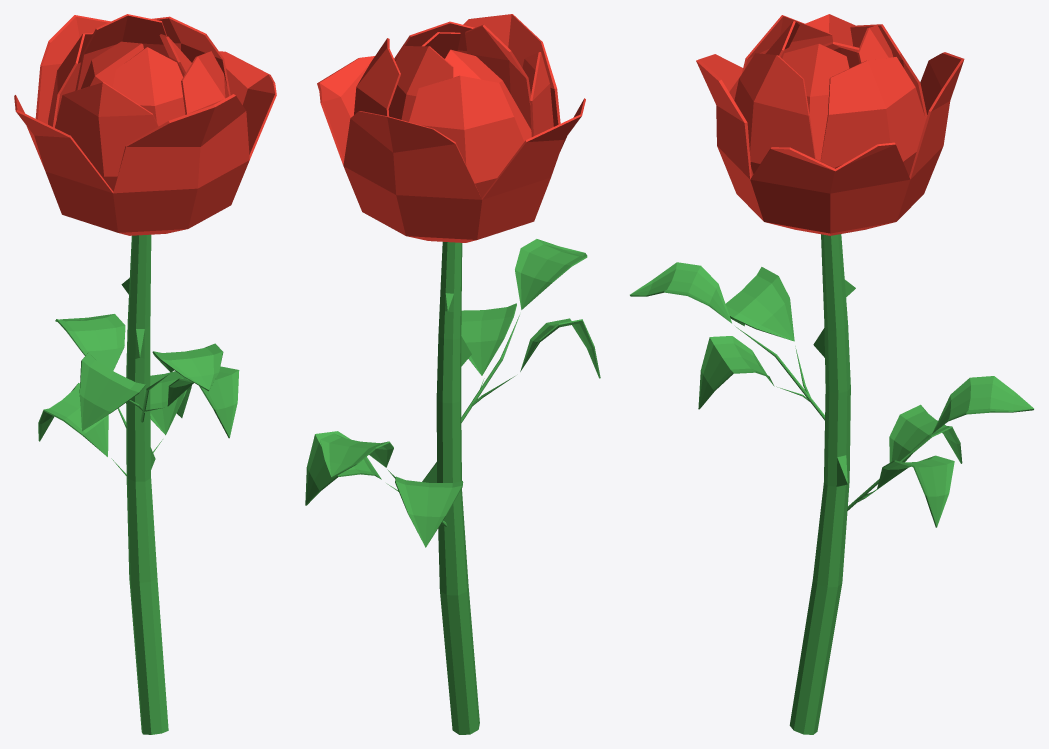
Rendered from Rose.glb.
3 views of the same model, side by side, from view 1: azimuth 30°, elevation 25°; view 2: azimuth 150°, elevation 25°; view 3: azimuth 270°, elevation 25° (orthographic).
Parts seen in each view (by area): view 1: Rose_Circle.005; view 2: Rose_Circle.005; view 3: Rose_Circle.005.
Boxes of the visible parts, x1,y1,x2,y2 form: Rose_Circle.005: (14,14,276,734); Rose_Circle.005: (305,14,600,734); Rose_Circle.005: (630,14,1033,734).
Size of the model in its own units: 3.93 by 10.11 by 5.26.
